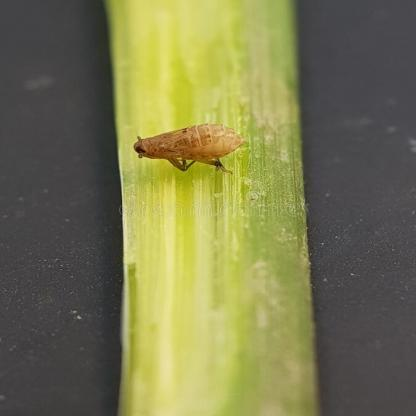brown-planthopper: (132, 121, 244, 166)
